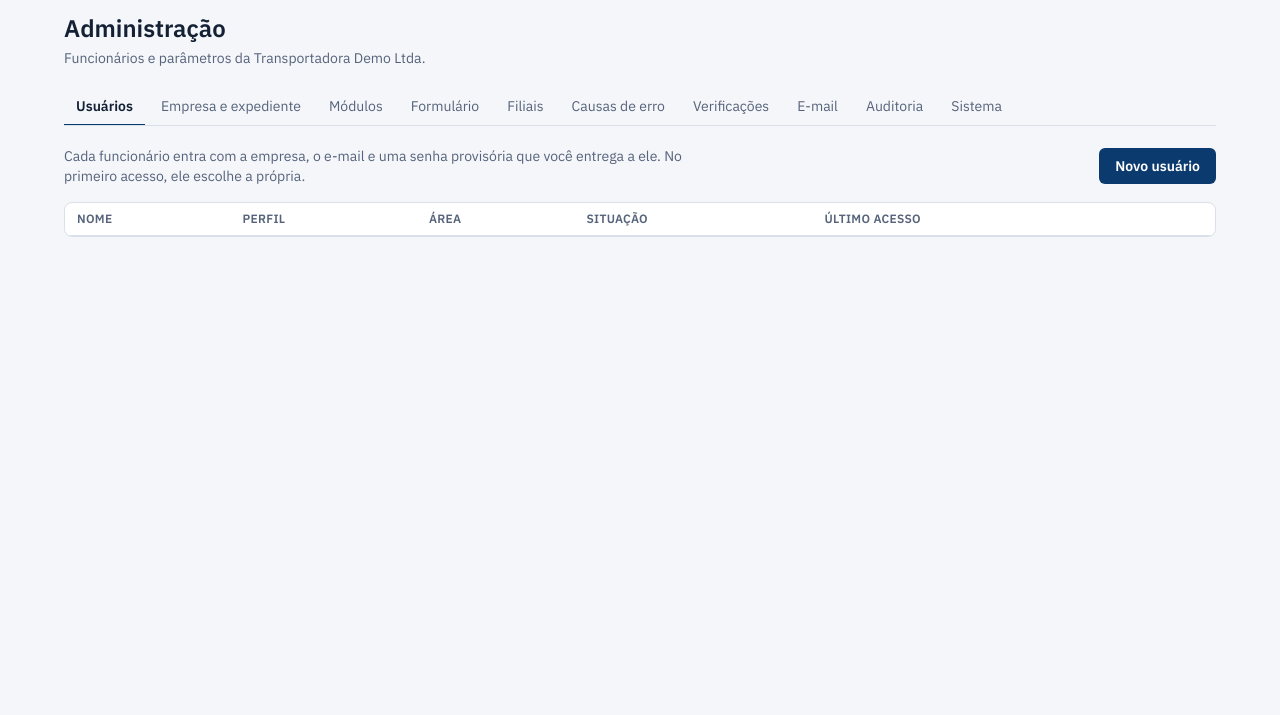
Scenario: página de administração › troca de aba
Expected: the button "Novo usuário" is shown, [1099,148,1216,184]
Click the tab "Empresa e expediente".
click(231, 107)  # box [149,88,313,126]
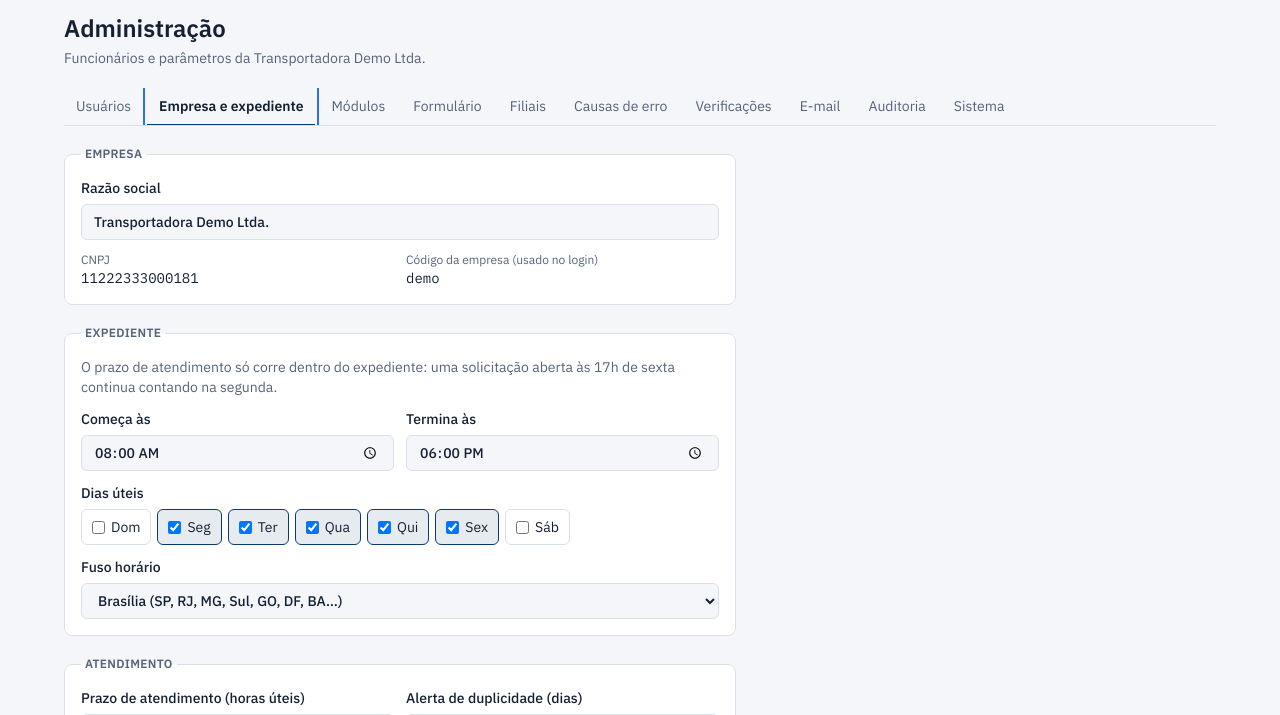
Click the tab "Auditoria".
click(897, 107)  # box [856,88,938,126]
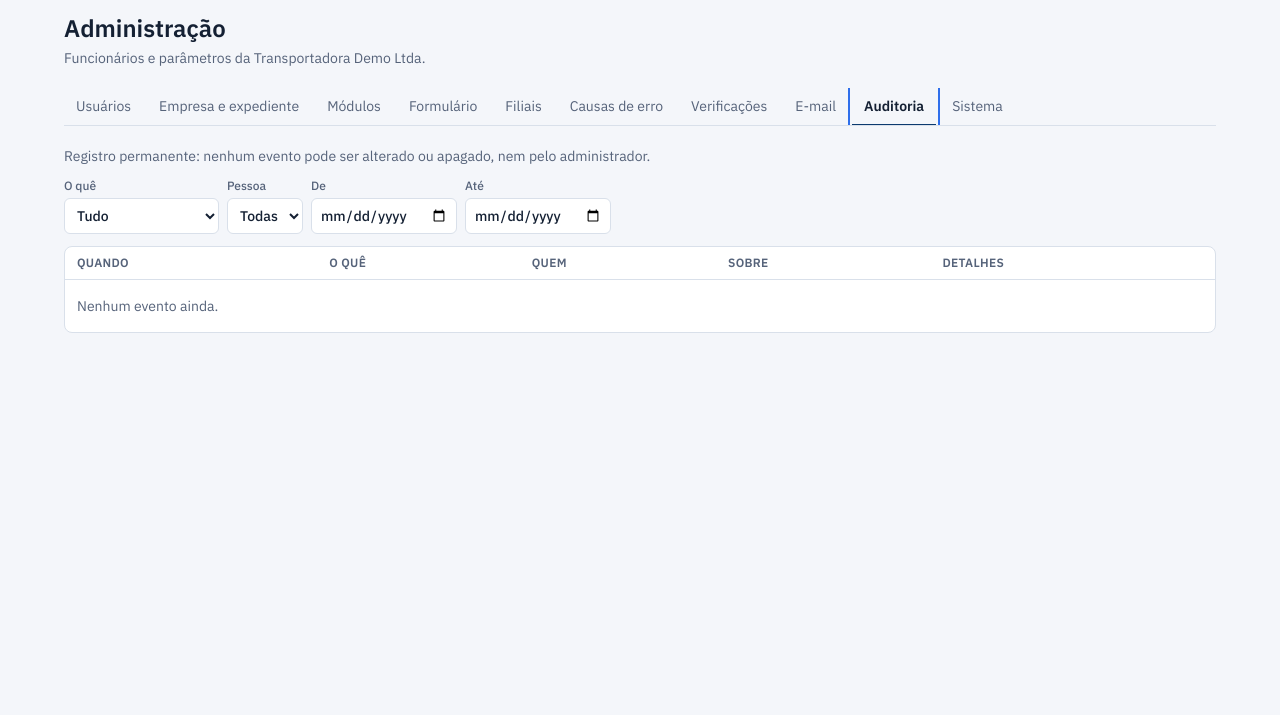
Expected: the text "Nenhum evento ainda." is shown, [65,280,1215,332]
